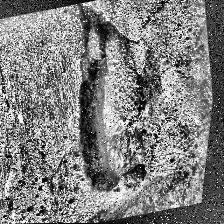pothole: (49, 0, 179, 198)
